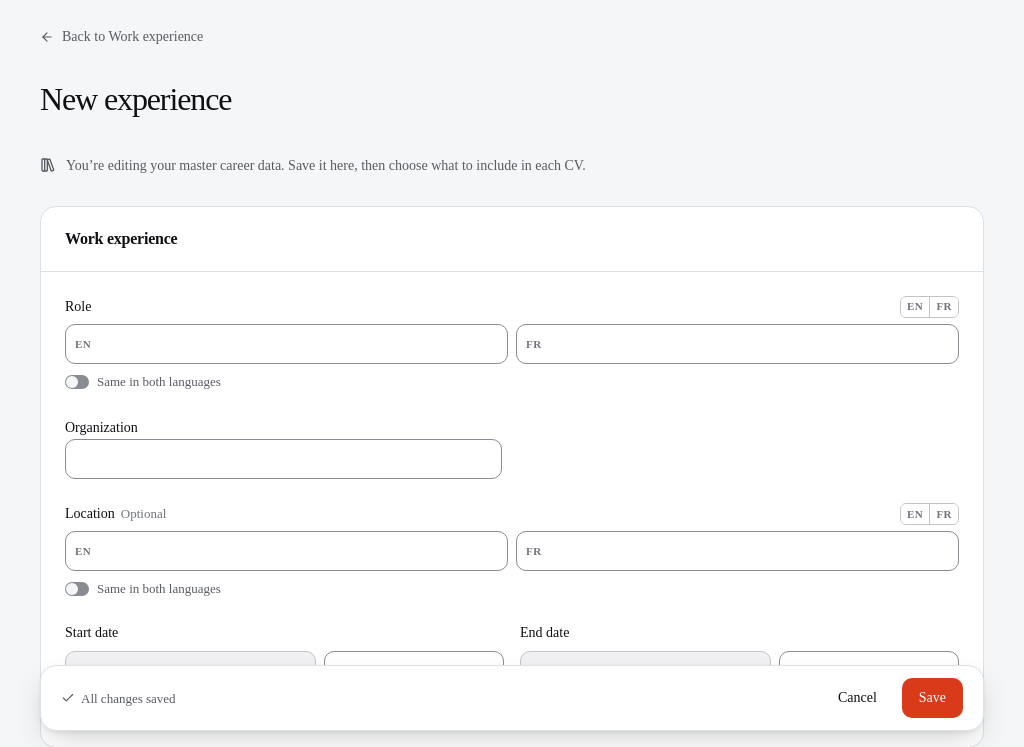
Test case: ExperienceForm › validates on the client before contacting the server
Expected: the heading "New experience" is shown, [40, 79, 231, 119]
Click the button "Save": {"x": 932, "y": 698} [902, 678, 963, 718]
(page scrolled)
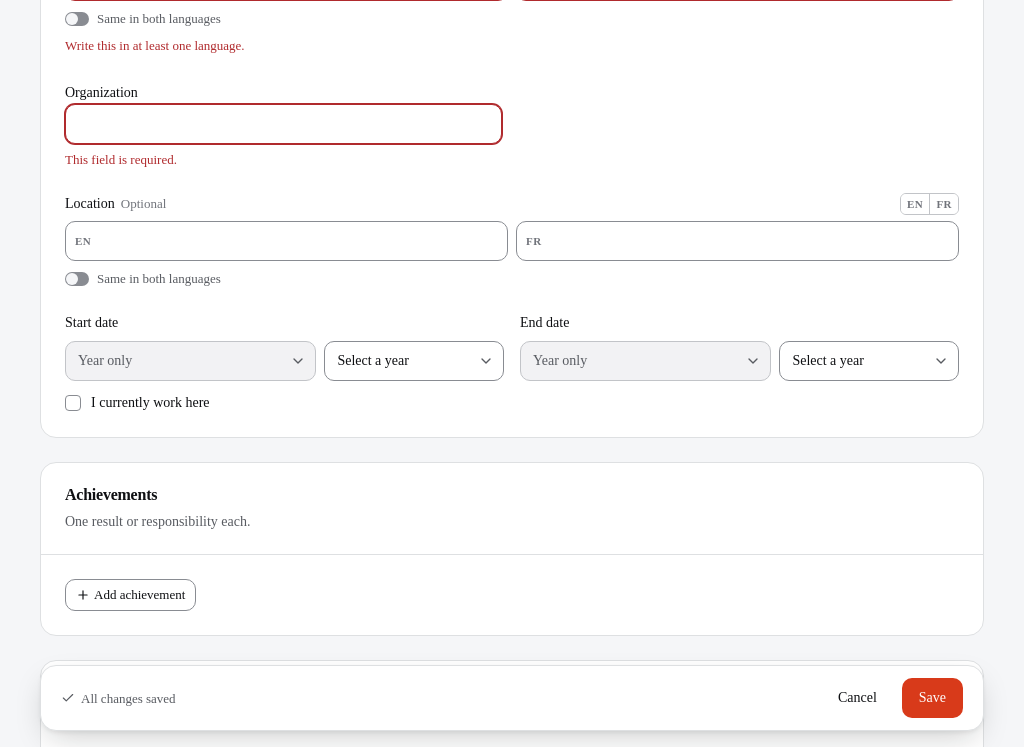
Expected: the text "Write this in at least one language." is shown, [65, 38, 245, 53]
Expected: the text "This field is required." is shown, [65, 152, 177, 167]
